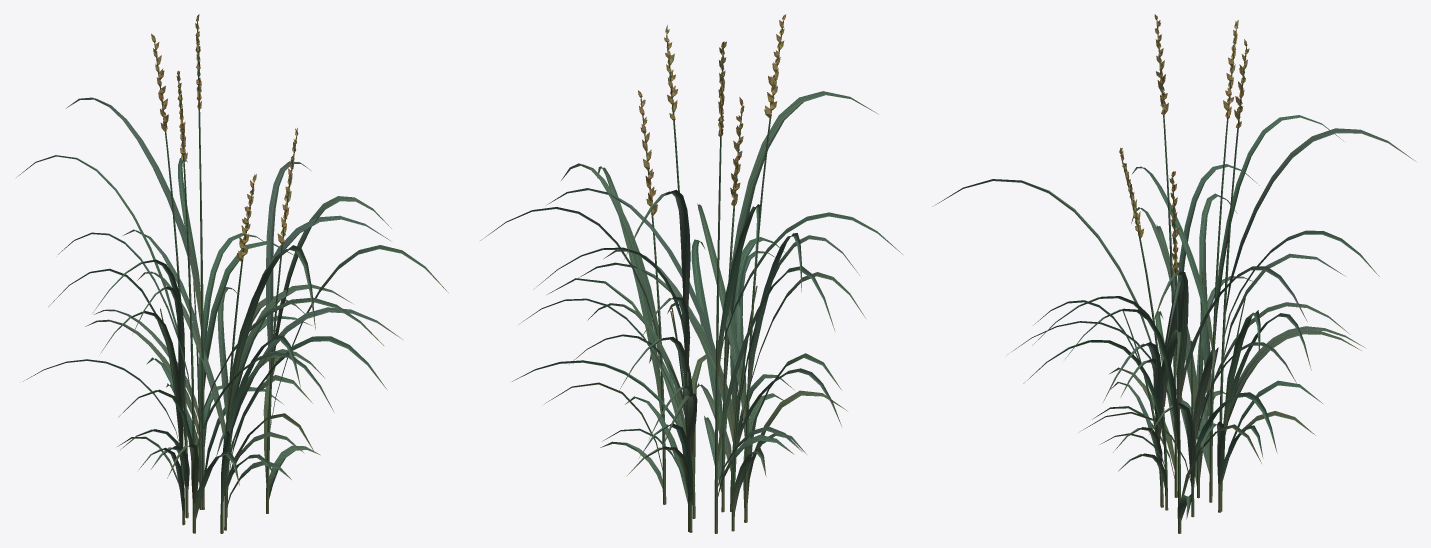
The model's file is coastal_dunegrass.glb.
3 renders of one model, left to right at view 1: azimuth 30°, elevation 25°; view 2: azimuth 150°, elevation 25°; view 3: azimuth 270°, elevation 25°, orthographic. The views are drawn at different scales.
Visible parts, largest first — view 1: Flowering, Leafy; view 2: Flowering, Leafy; view 3: Flowering, Leafy.
Part boxes in pixels (x1,y1,x2,y2): Flowering: (16, 14, 448, 533); Leafy: (23, 233, 402, 533); Flowering: (480, 14, 902, 533); Leafy: (512, 235, 865, 532); Flowering: (932, 14, 1415, 533); Leafy: (1034, 207, 1364, 517).
Bounding box in the file's own units: 0.5668 × 0.7953 × 0.7321.
Materials: 2 (2 with a texture image).
